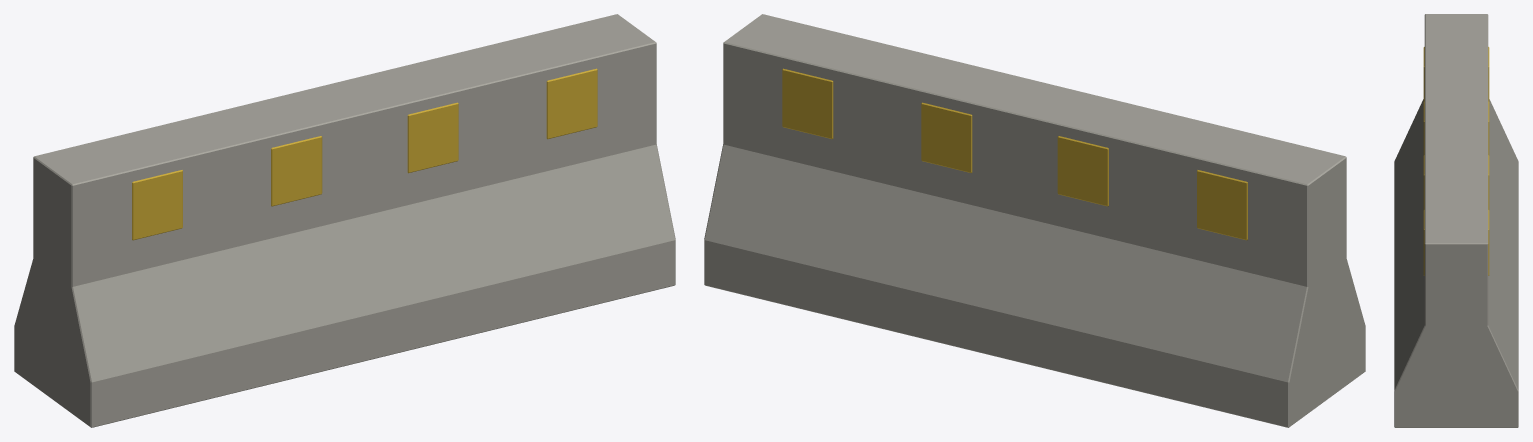
Rendered from SM_LS_ConcreteBarrier.fbx.
3 views of the same model, side by side, from view 1: azimuth 30°, elevation 25°; view 2: azimuth 150°, elevation 25°; view 3: azimuth 270°, elevation 25° (orthographic). The views are drawn at different scales.
Parts seen in each view (by area): view 1: SM_LS_ConcreteBarrier; view 2: SM_LS_ConcreteBarrier; view 3: SM_LS_ConcreteBarrier.
Boxes of the visible parts, x1,y1,x2,y2 form: SM_LS_ConcreteBarrier: (14,14,675,427); SM_LS_ConcreteBarrier: (704,14,1365,427); SM_LS_ConcreteBarrier: (1394,14,1518,427).
Size of what is drawn, in the model's own units: 2.4 by 0.55 by 0.9.
